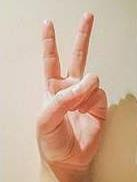front: (30, 10, 110, 165)
